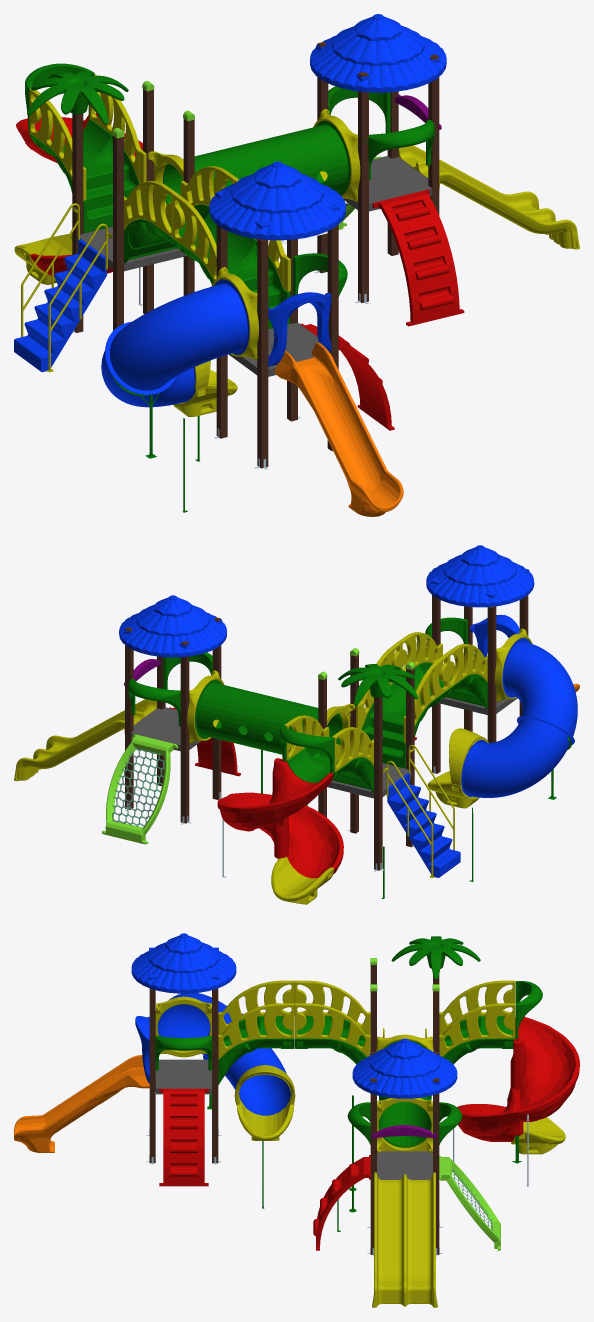
3 views of the same model, one above another, from view 1: azimuth 30°, elevation 25°; view 2: azimuth 150°, elevation 25°; view 3: azimuth 270°, elevation 25° (orthographic). The views are drawn at different scales.
Visible parts, largest first — view 1: ESCORREGADOR M2; view 2: ESCORREGADOR M2; view 3: ESCORREGADOR M2.
Part boxes in pixels (left/top/right/bottom): ESCORREGADOR M2: left=14, top=14, right=579, bottom=516; ESCORREGADOR M2: left=14, top=545, right=579, bottom=904; ESCORREGADOR M2: left=14, top=933, right=579, bottom=1307.
Bounding box in the file's own units: 7.35 × 4.64 × 8.25.
17 materials, 2 textured.
